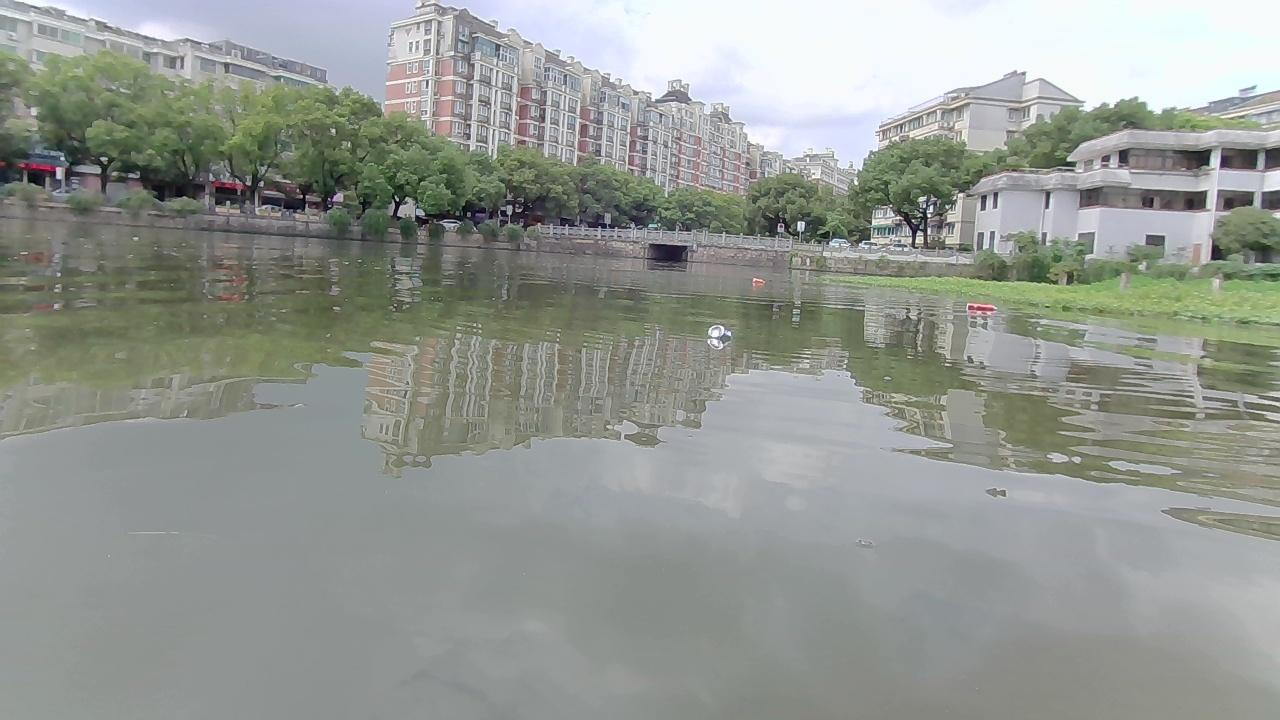bottle: (706, 324, 731, 337), (966, 302, 997, 309), (751, 276, 765, 282)
